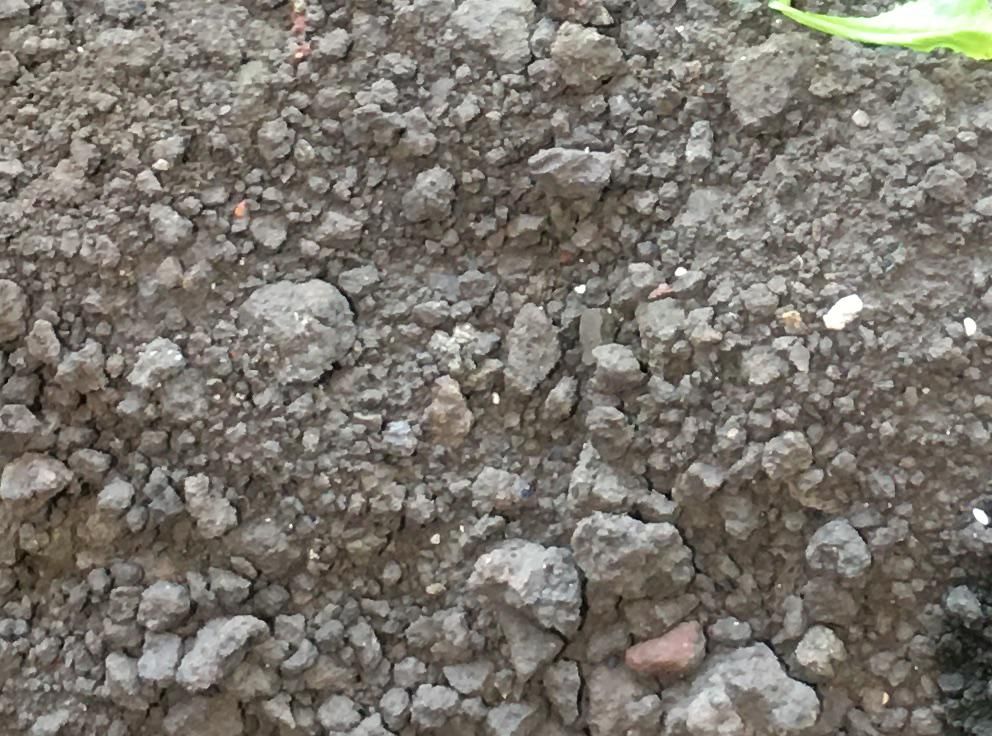block: (669, 642, 829, 736), (235, 279, 355, 385), (568, 509, 694, 602), (472, 536, 571, 638)
